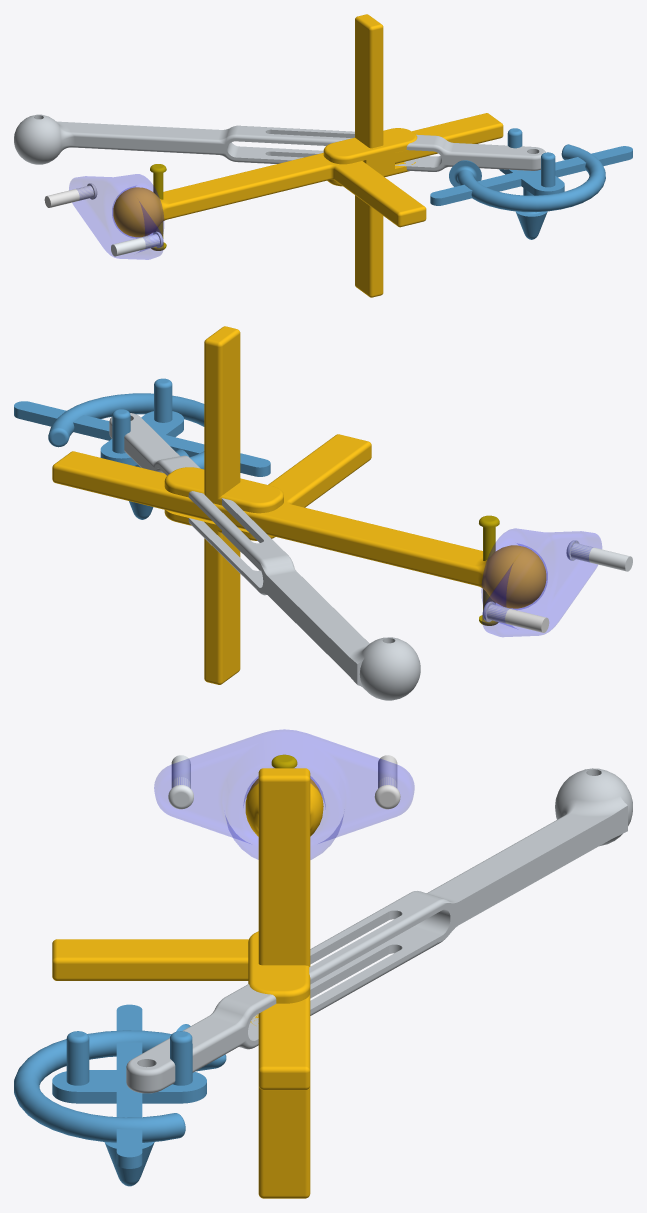
Rendered from Support Model.gltf.
3 renders of one model, top to bottom at view 1: azimuth 30°, elevation 25°; view 2: azimuth 150°, elevation 25°; view 3: azimuth 270°, elevation 25°, orthographic. The views are drawn at different scales.
Visible parts, largest first — view 1: mesh32_meshnode_32, mesh211_meshnode_211, mesh151_meshnode_151, mesh17_meshnode_17, mesh101_meshnode_101, mesh230_meshnode_230, mesh114_meshnode_114, mesh6_meshnode_6, mesh295_meshnode_295, mesh190_meshnode_190, mesh236_meshnode_236, mesh161_meshnode_161 (+19 smaller); view 2: mesh32_meshnode_32, mesh22_meshnode_22, mesh17_meshnode_17, mesh101_meshnode_101, mesh150_meshnode_150, mesh211_meshnode_211, mesh230_meshnode_230, mesh114_meshnode_114, mesh20_meshnode_20, mesh247_meshnode_247, mesh295_meshnode_295, mesh284_meshnode_284 (+15 smaller); view 3: mesh242_meshnode_242, mesh211_meshnode_211, mesh150_meshnode_150, mesh32_meshnode_32, mesh287_meshnode_287, mesh114_meshnode_114, mesh190_meshnode_190, mesh36_meshnode_36, mesh161_meshnode_161, mesh101_meshnode_101, mesh154_meshnode_154, mesh255_meshnode_255 (+13 smaller).
Boxes of the visible parts, box(x1,y1,x2,y2) form: mesh32_meshnode_32: box(163, 113, 499, 211); mesh211_meshnode_211: box(457, 144, 605, 212); mesh151_meshnode_151: box(74, 136, 531, 170); mesh17_meshnode_17: box(113, 187, 161, 237); mesh101_meshnode_101: box(14, 114, 61, 164); mesh230_meshnode_230: box(355, 20, 368, 147); mesh114_meshnode_114: box(59, 121, 220, 139); mesh6_meshnode_6: box(167, 169, 329, 217); mesh295_meshnode_295: box(355, 195, 368, 294); mesh190_meshnode_190: box(477, 157, 585, 191); mesh236_meshnode_236: box(373, 28, 381, 147); mesh161_meshnode_161: box(236, 146, 436, 167); mesh32_meshnode_32: box(57, 434, 482, 565); mesh22_meshnode_22: box(54, 469, 478, 583); mesh17_meshnode_17: box(485, 545, 546, 608); mesh101_meshnode_101: box(359, 637, 420, 700); mesh150_meshnode_150: box(110, 425, 357, 684); mesh211_meshnode_211: box(49, 393, 204, 469); mesh230_meshnode_230: box(223, 334, 239, 494); mesh114_meshnode_114: box(268, 572, 368, 656); mesh20_meshnode_20: box(54, 464, 478, 572); mesh247_meshnode_247: box(175, 344, 248, 511); mesh295_meshnode_295: box(223, 534, 239, 681); mesh284_meshnode_284: box(175, 514, 248, 682); mesh242_meshnode_242: box(263, 782, 304, 965); mesh211_meshnode_211: box(14, 1030, 182, 1142); mesh150_meshnode_150: box(163, 805, 627, 1086); mesh32_meshnode_32: box(57, 939, 304, 1066); mesh287_meshnode_287: box(263, 1090, 304, 1195); mesh114_meshnode_114: box(431, 814, 611, 901); mesh190_meshnode_190: box(52, 1042, 206, 1117); mesh36_meshnode_36: box(57, 964, 248, 977); mesh161_meshnode_161: box(248, 926, 441, 1040); mesh101_meshnode_101: box(555, 768, 632, 846); mesh154_meshnode_154: box(228, 892, 437, 1004); mesh255_meshnode_255: box(253, 932, 304, 990).
Size of the model in its own units: 0.2222 by 0.1148 by 0.1523.
